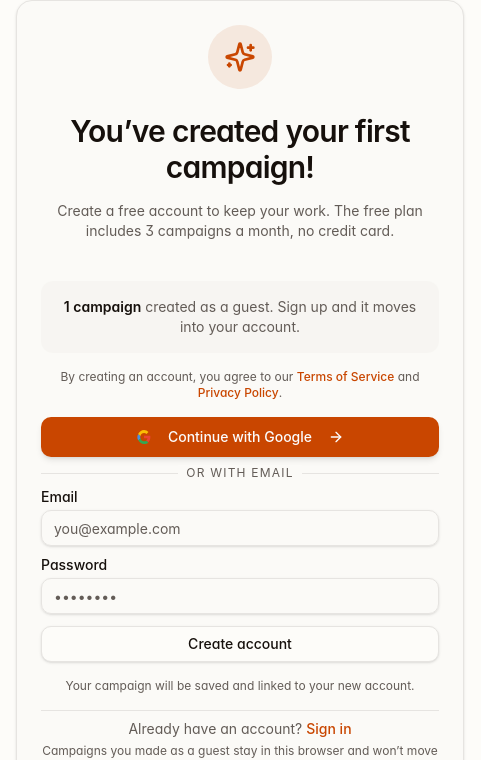
Test: <UpgradePrompt /> — email upgrade path › still shows other updateUser errors as they come back
Type "newuser@example.com" into the field labelled "Email" at (240, 528), box top-left (41, 510), bottom-right (439, 546)
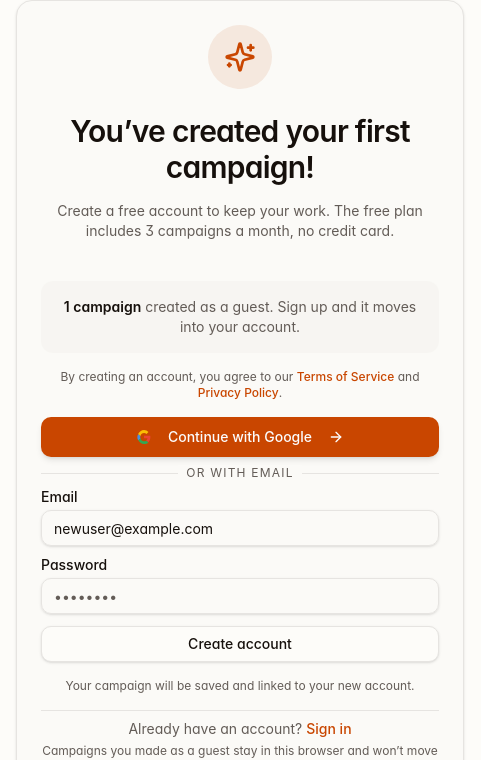
Type "hunter2!" into the password field labelled "Password" at (240, 596), box top-left (41, 578), bottom-right (439, 614)
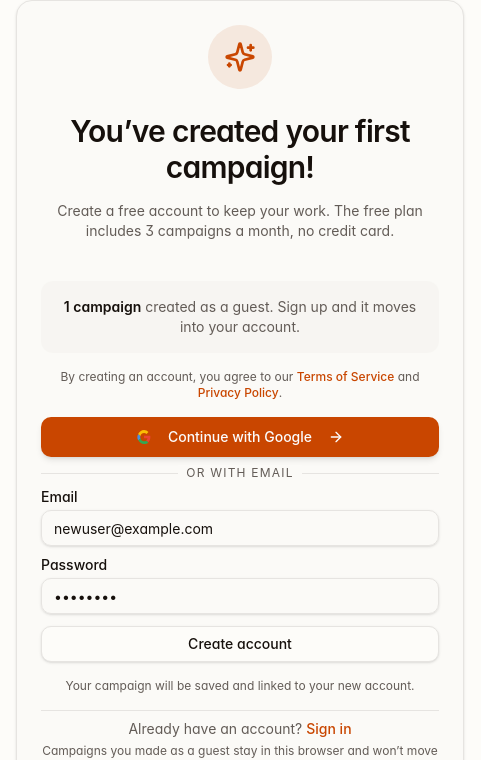
Click the button "Create account" at (240, 644), box top-left (41, 626), bottom-right (439, 662)
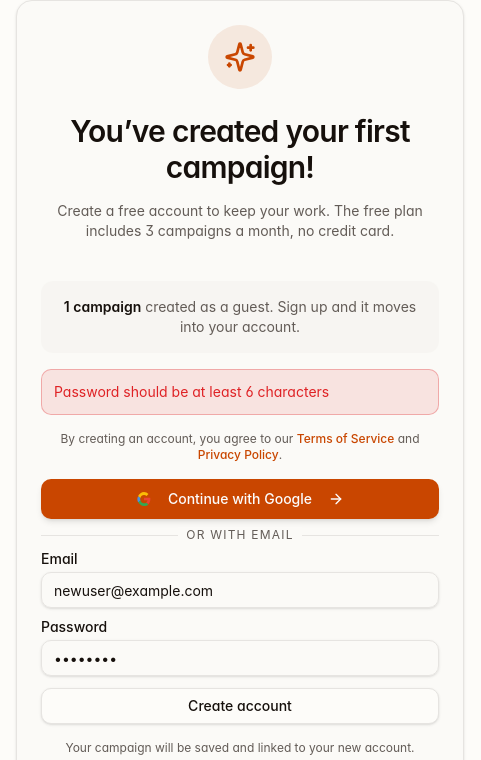
Now the text "Password should be at least 6 characters" is shown, box top-left (41, 369), bottom-right (439, 415)
